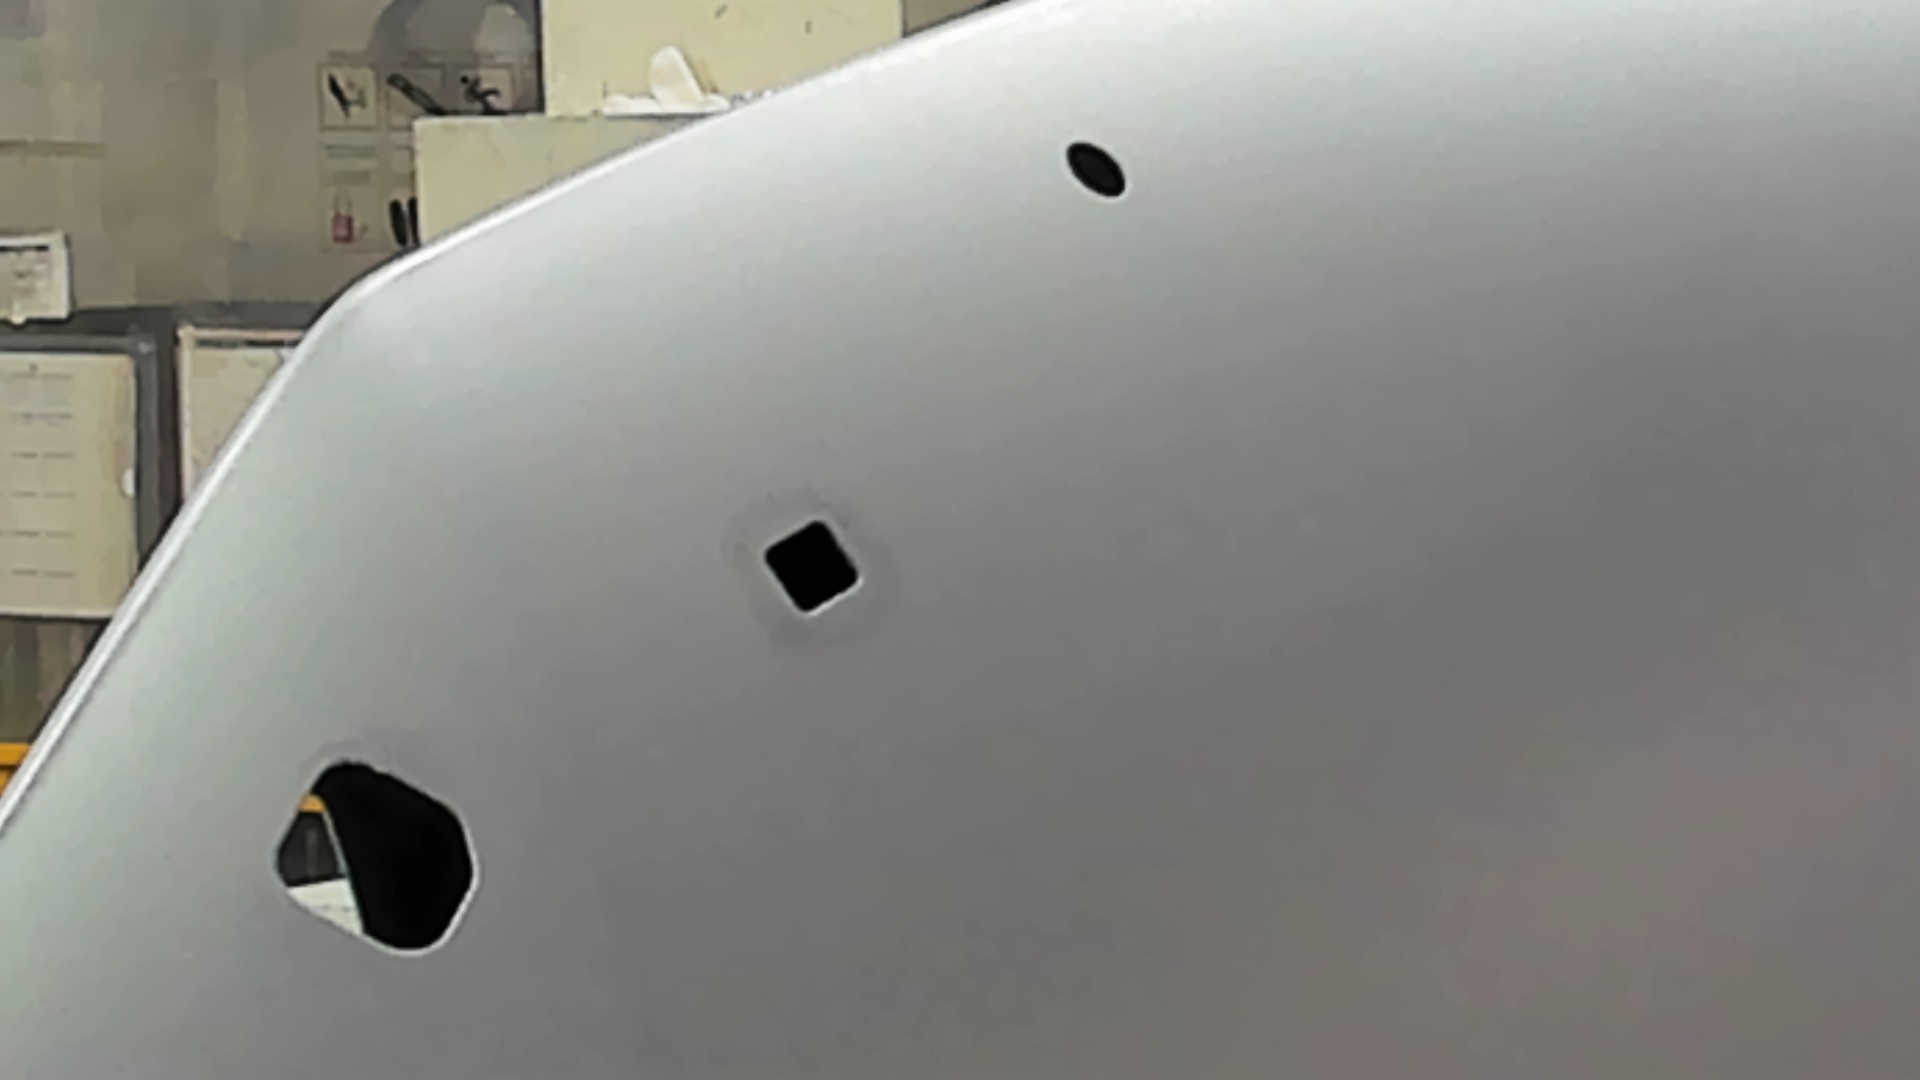chico: (1063, 137, 1131, 204)
grande: (269, 756, 480, 964)
mediano: (758, 514, 864, 618)
